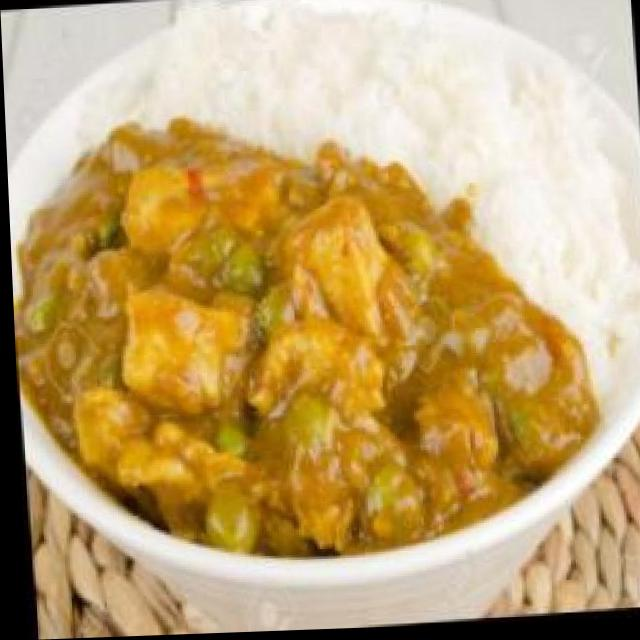curry: (4, 98, 600, 578)
rice: (194, 0, 574, 186)
